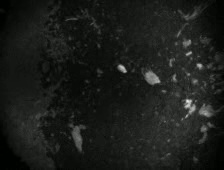corn: (114, 61, 129, 75)
